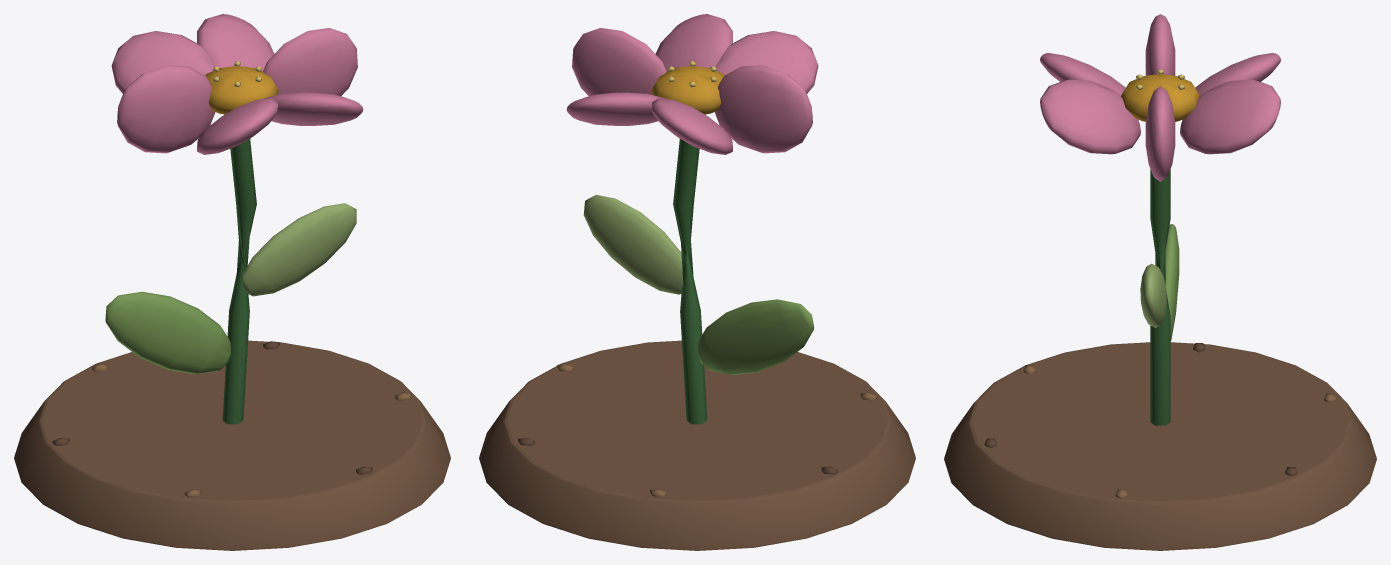
File: flower_stage3_pink.glb
The picture shows the model from 3 angles, left to right: view 1: azimuth 30°, elevation 25°; view 2: azimuth 150°, elevation 25°; view 3: azimuth 270°, elevation 25°; orthographic projection.
Bounding box in the file's own units: 0.3775 × 0.391 × 0.3775.
